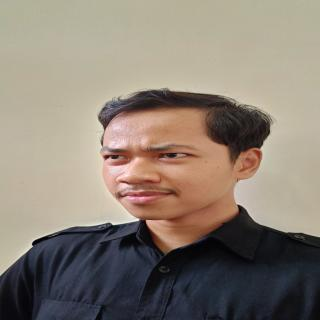Marah: (94, 106, 257, 219)
